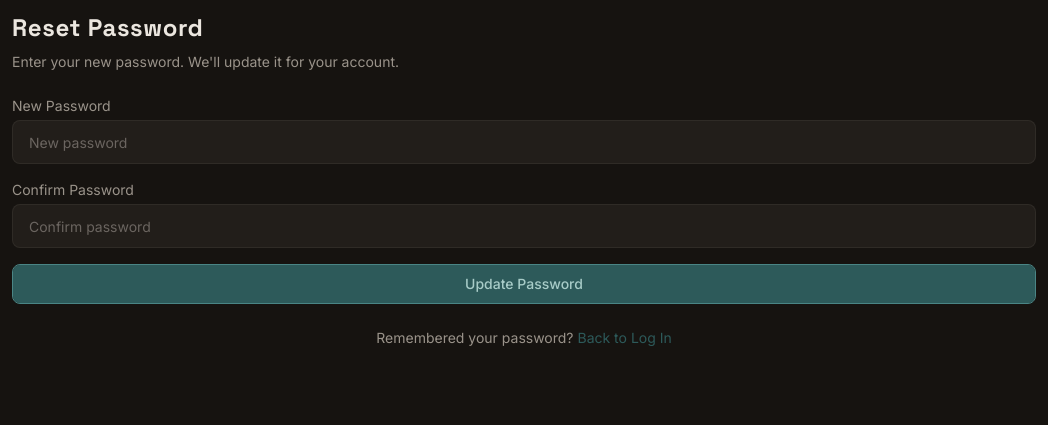
ResetPasswordPage › shows an error when passwords do not match
Type "password-one" into the password field labelled "New Password".
click(524, 142); type("password-one")  # box [12,120,1036,164]
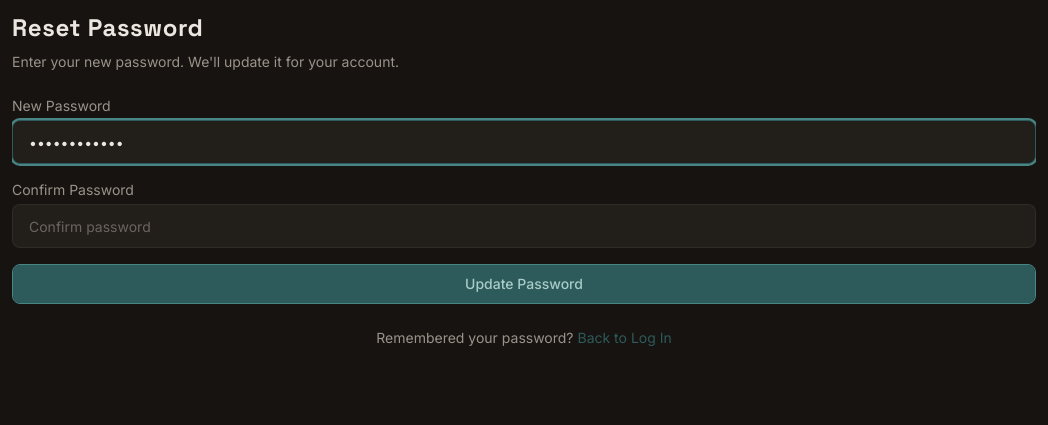
Type "password-two" into the password field labelled "Confirm Password".
click(524, 226); type("password-two")  # box [12,204,1036,248]
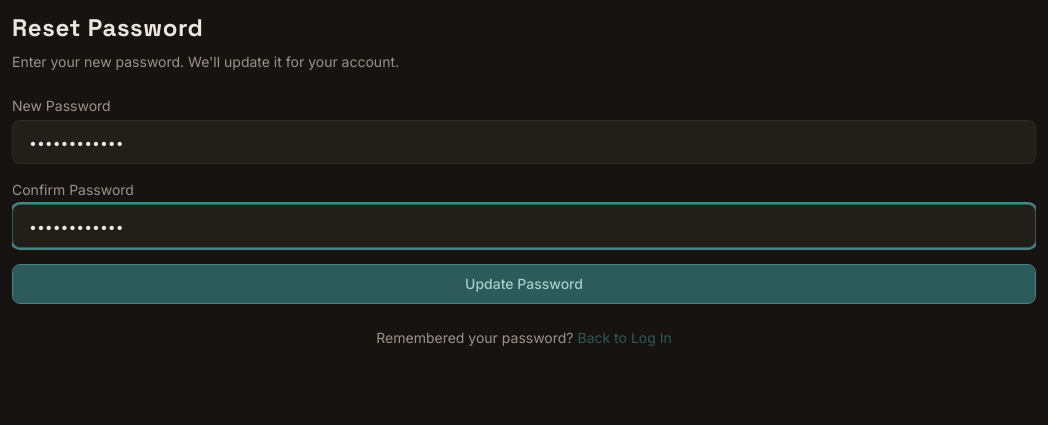
Click the button "Update Password".
click(524, 284)  # box [12,264,1036,304]
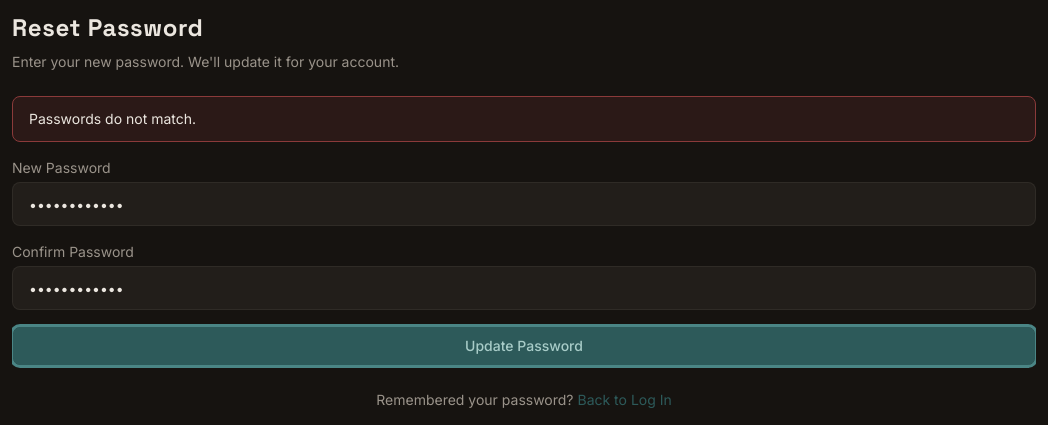
Expected: the message shows "Passwords do not match", [29,110,196,127]
